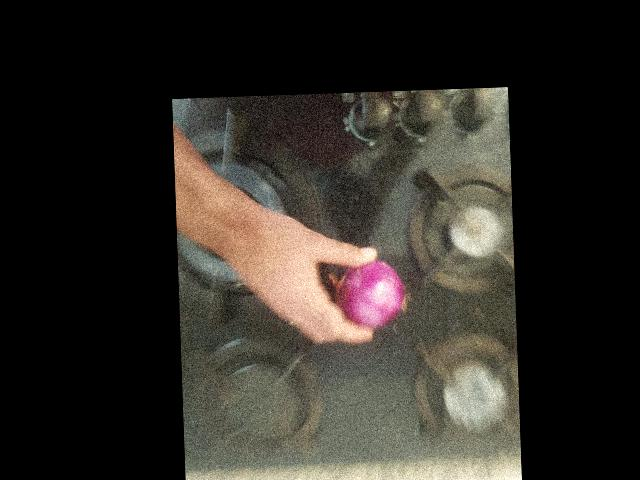onion: (392, 364, 454, 426)
